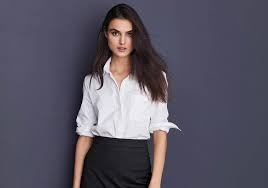F_shirt: (71, 52, 176, 143)
F_tailored skirt: (73, 134, 154, 187)
